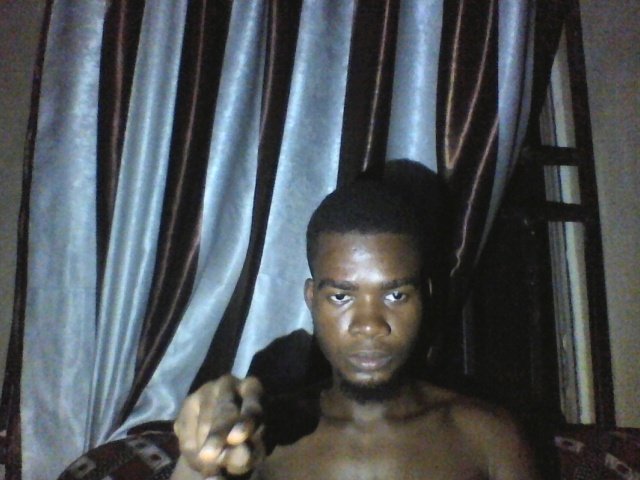no: (163, 361, 276, 475)
